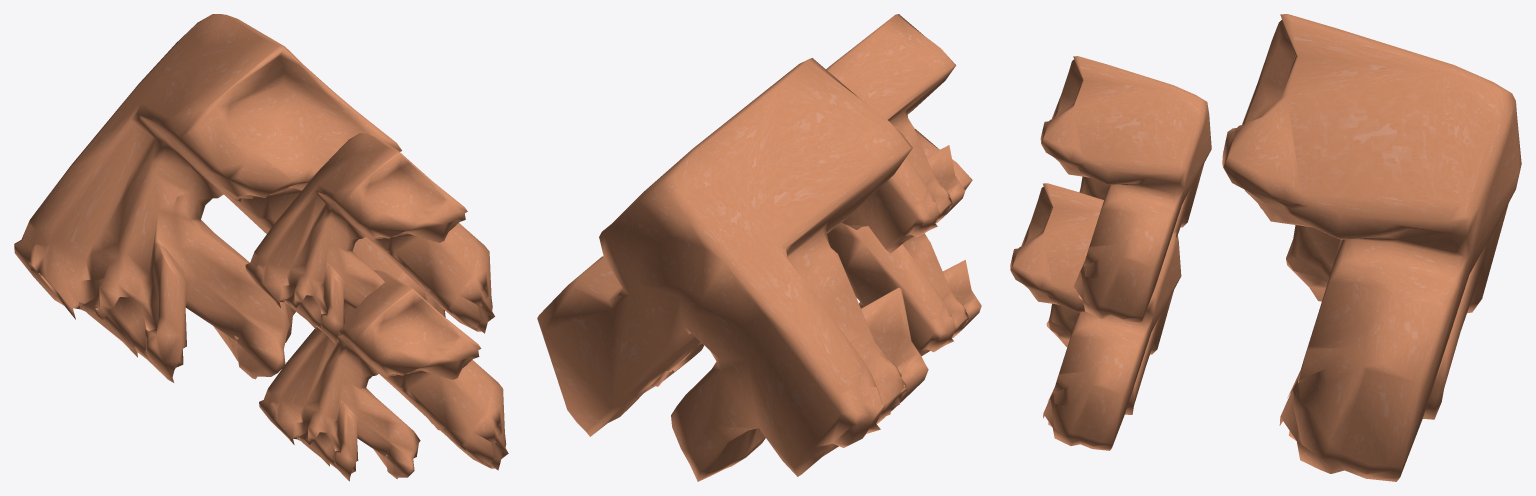
Rendered from Copper 2.fbx.
The picture shows the model from 3 angles, left to right: view 1: azimuth 30°, elevation 25°; view 2: azimuth 150°, elevation 25°; view 3: azimuth 270°, elevation 25°; orthographic projection. The views are drawn at different scales.
Visible parts, largest first — view 1: C2; view 2: C2; view 3: C2.
Part boxes in pixels (box(x1,y1,x2,y2)): C2: box(14, 14, 508, 481); C2: box(537, 14, 981, 481); C2: box(1010, 14, 1521, 481).
Bounding box in the file's own units: 287 × 281 × 337.
Materials: 3 (3 with a texture image).
